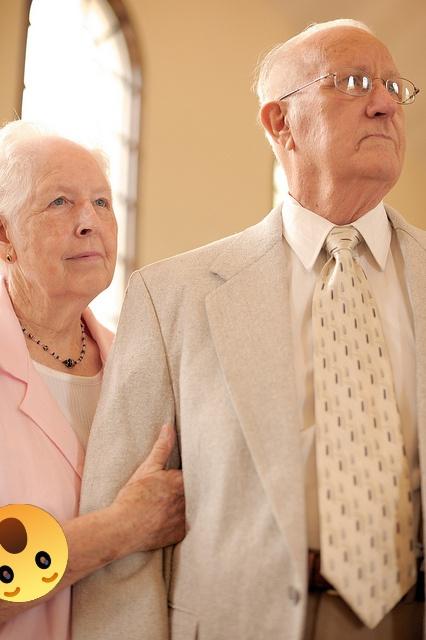wow: (0, 504, 68, 602)
